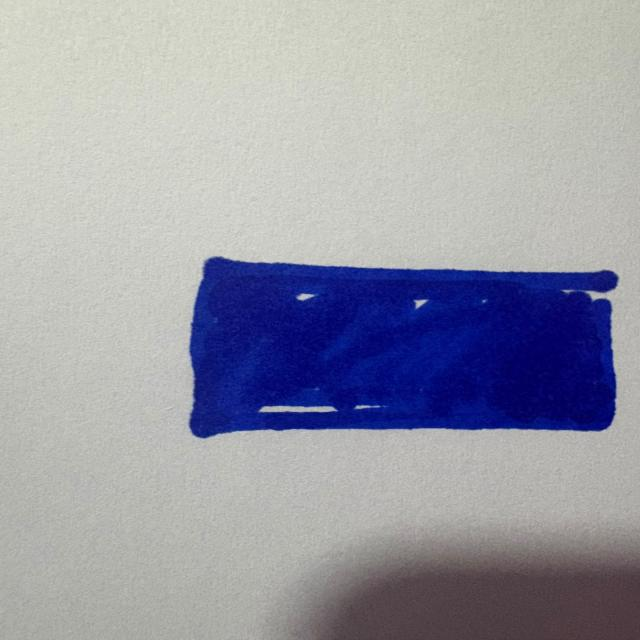Rectangle: (189, 257, 617, 439)
